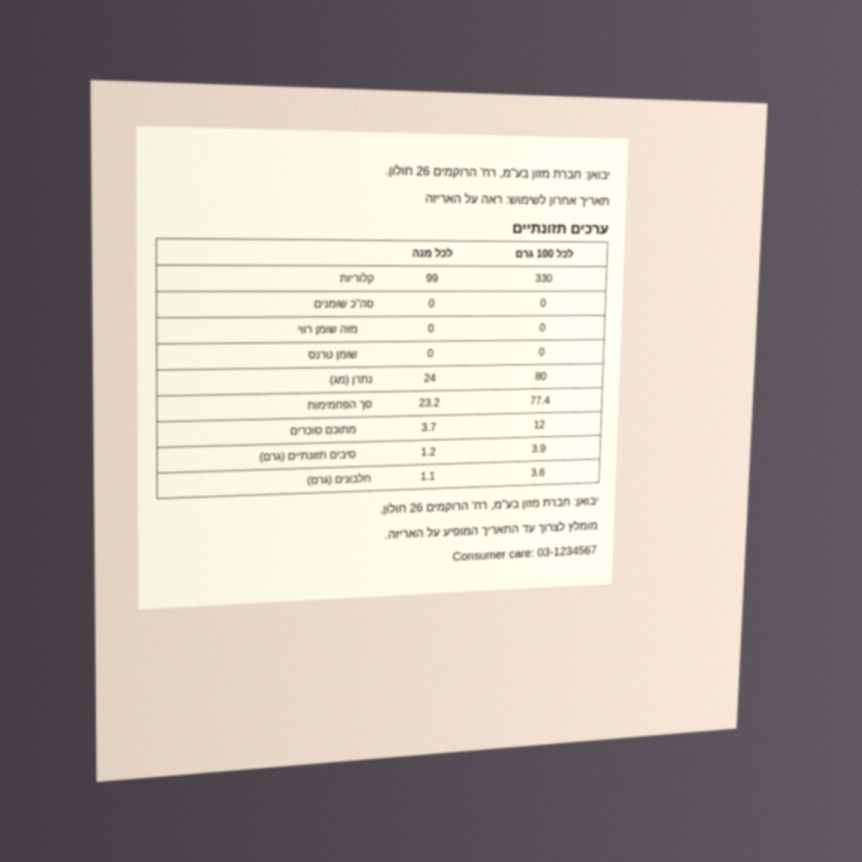carbs: (529, 393, 551, 408)
energy: (534, 271, 554, 285)
fat: (539, 296, 547, 310)
protein: (529, 465, 546, 480)
